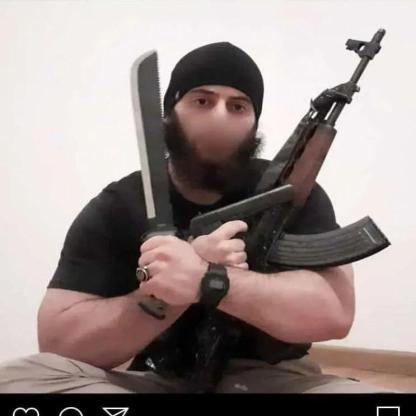knife: (129, 46, 181, 254)
pistol: (187, 182, 301, 247)
rifle: (181, 25, 397, 390)
